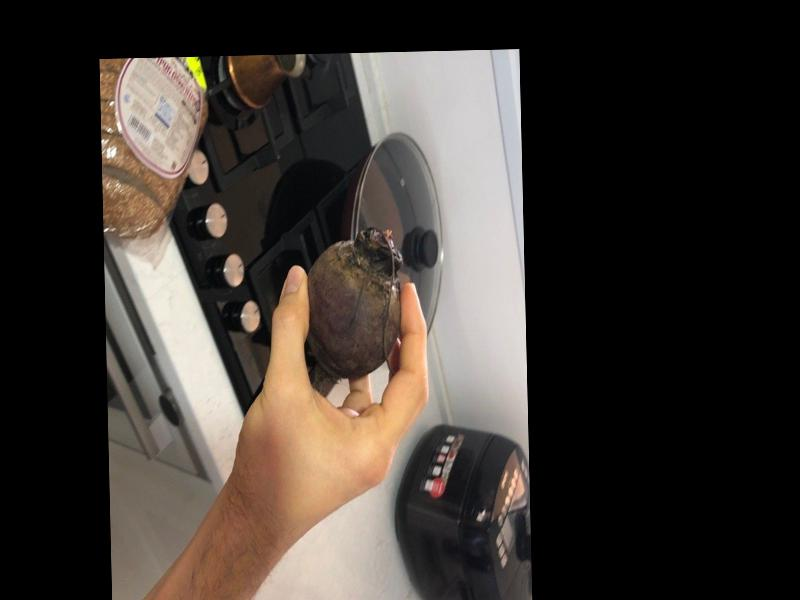Beet: (305, 226, 403, 388)
